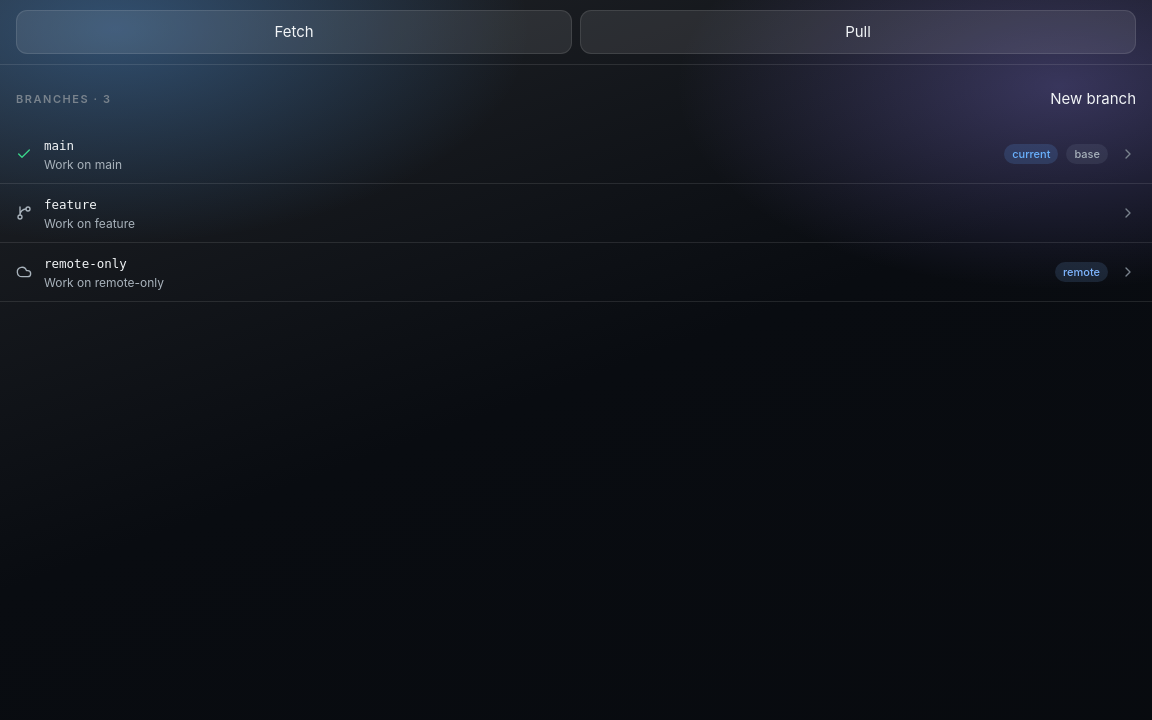
Test: mobile project branches › blocks deletion until the linked run check succeeds
Click the button "feature Work on feature". click: (70, 204)
box: [0,184,1151,243]
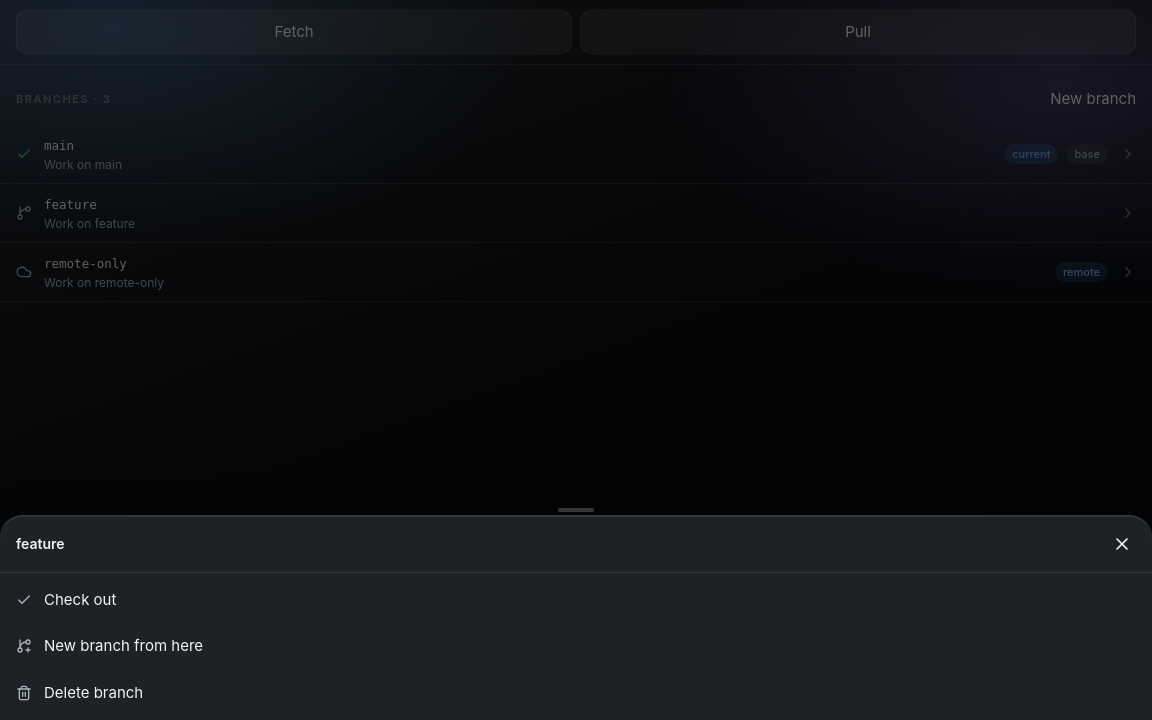
Expected: the button "Delete branch" is shown
Click the button "Delete branch". click: (94, 692)
box: [0,670,1151,716]
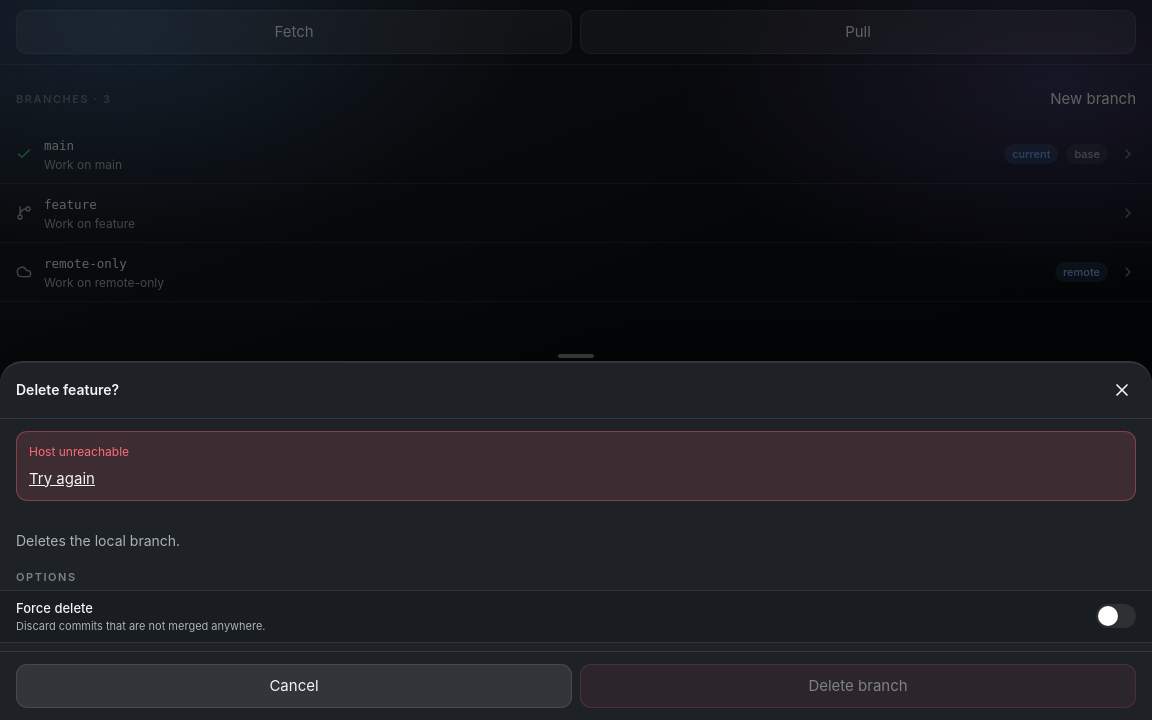
Expected: the button "Delete branch" is disabled, [580,664,1136,708]
Expected: the text "Host unreachable" is shown, [29,444,129,458]
Expected: the button "Try again" is shown
Click the button "Try again". click: (62, 479)
box: [29,468,95,490]
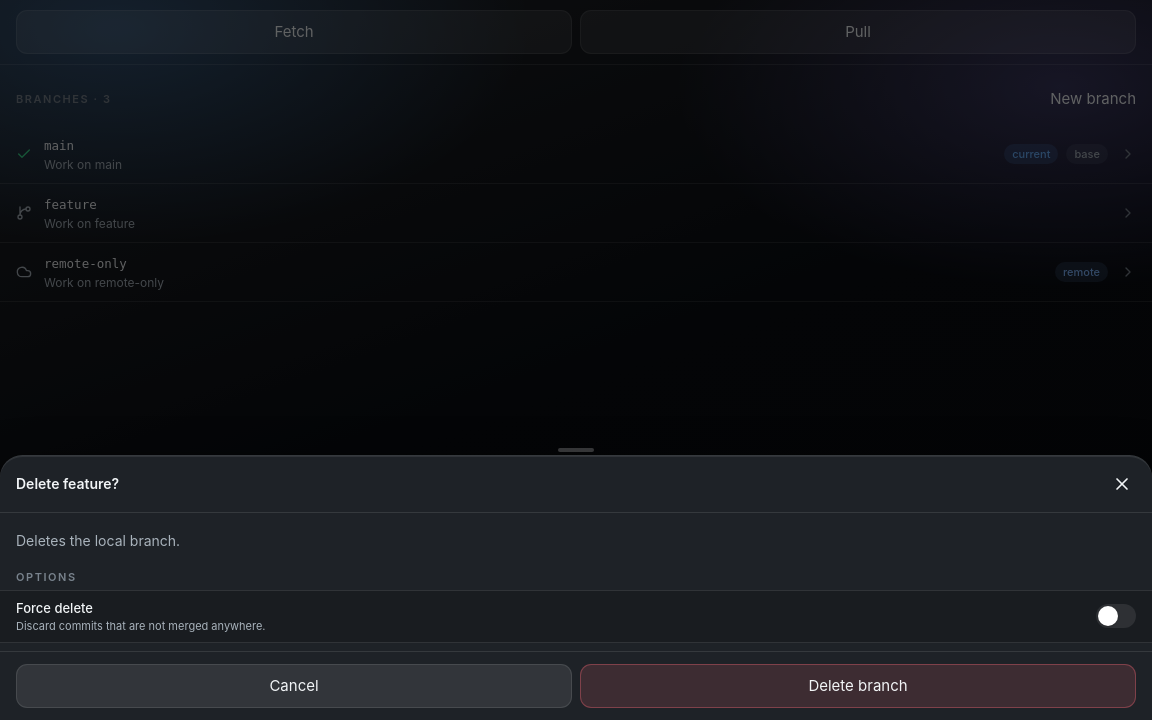
Expected: the button "Delete branch" is enabled, [580,664,1136,708]
